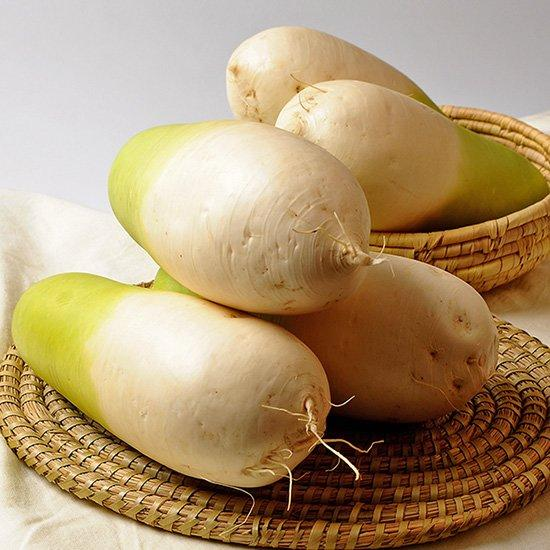radish: (6, 230, 287, 423), (95, 100, 326, 266), (235, 70, 469, 188)
